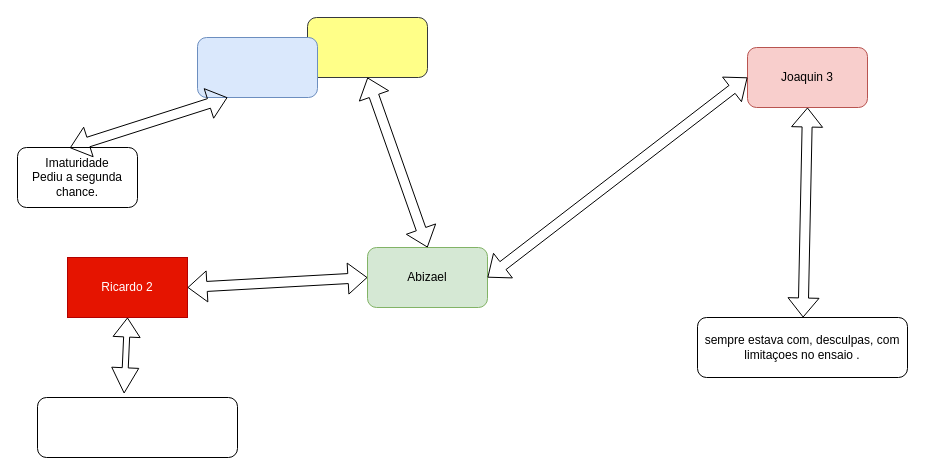
This 925x475 diagram has some shape labels left out. The shapes that lost their labels are listed below. From the top down, each one's centre as x and y in pixels, then its label:
(257,67): 1 jean
(367,47): Edy.
(137,427): Era muito , de decide , e questinar que estava certo ., mesmo sem razao
